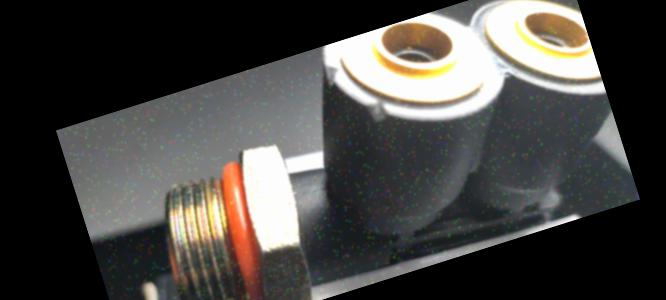bump: (356, 91, 396, 131), (313, 54, 347, 94)
joint line: (301, 183, 329, 199)
white mark: (288, 185, 300, 198)
